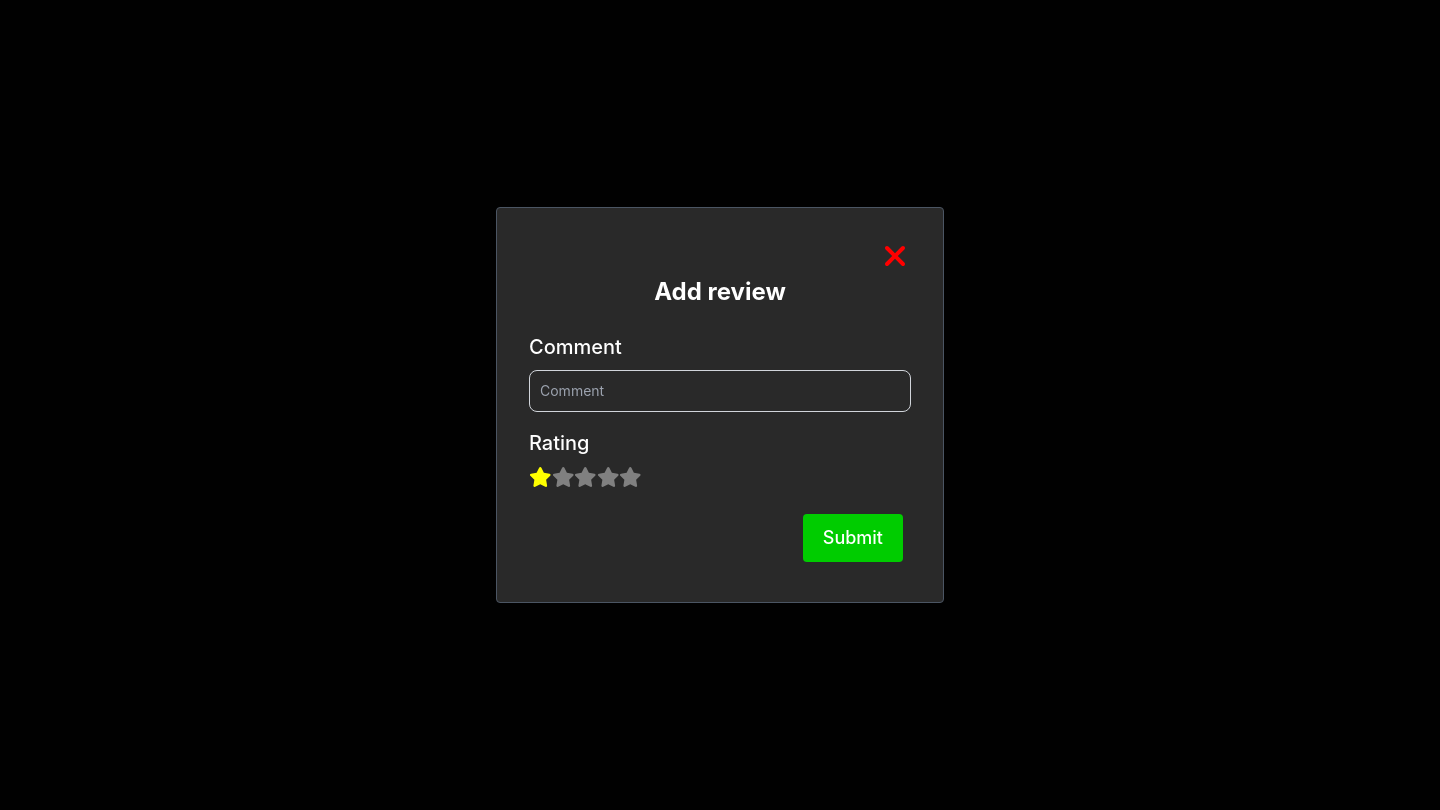
Test case: ReviewModal Component UI Tests › displays validation error for missing comment
Click the button "Submit" at (853, 538), box [803, 514, 903, 562]
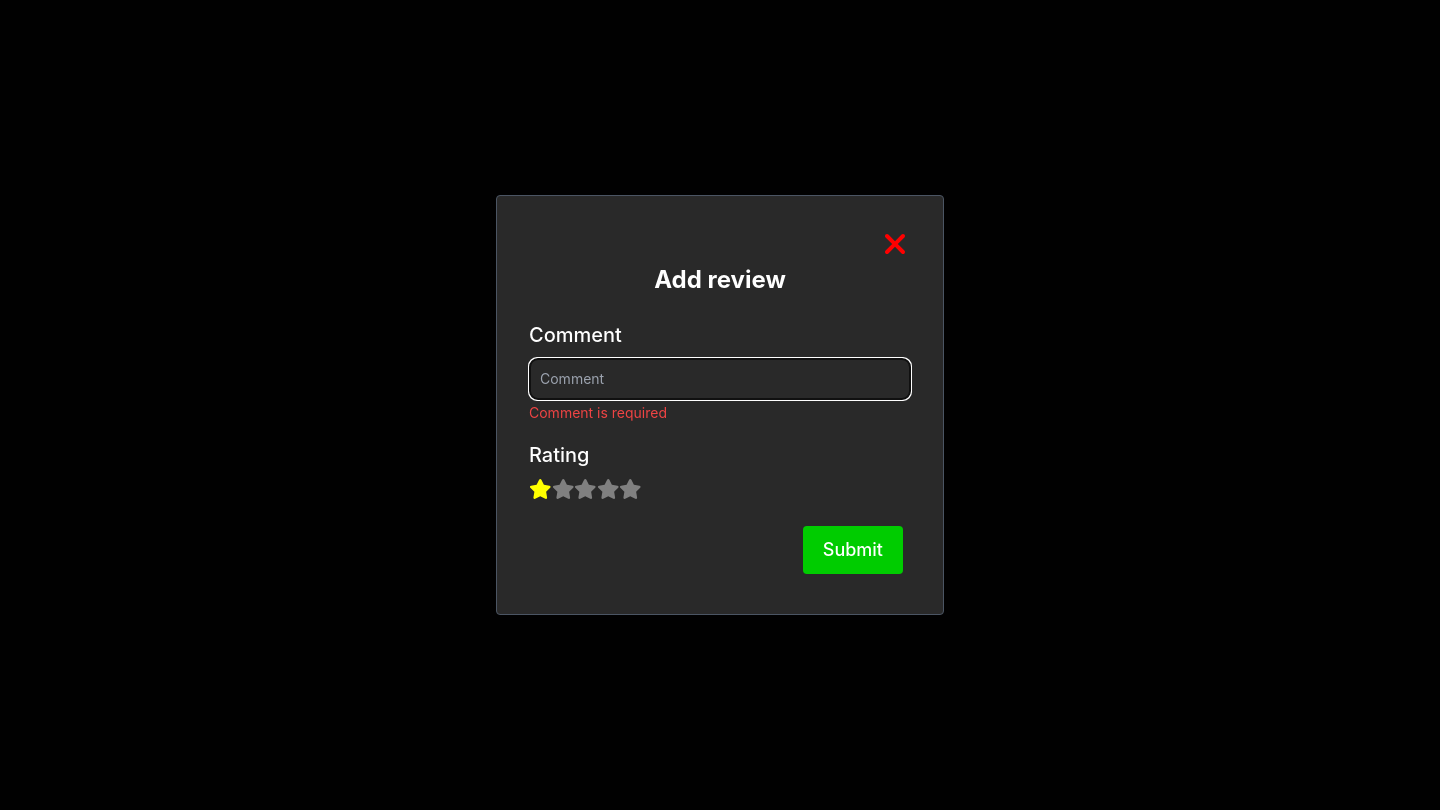
Expected: the text "Comment is required" is shown, [529, 404, 667, 421]
